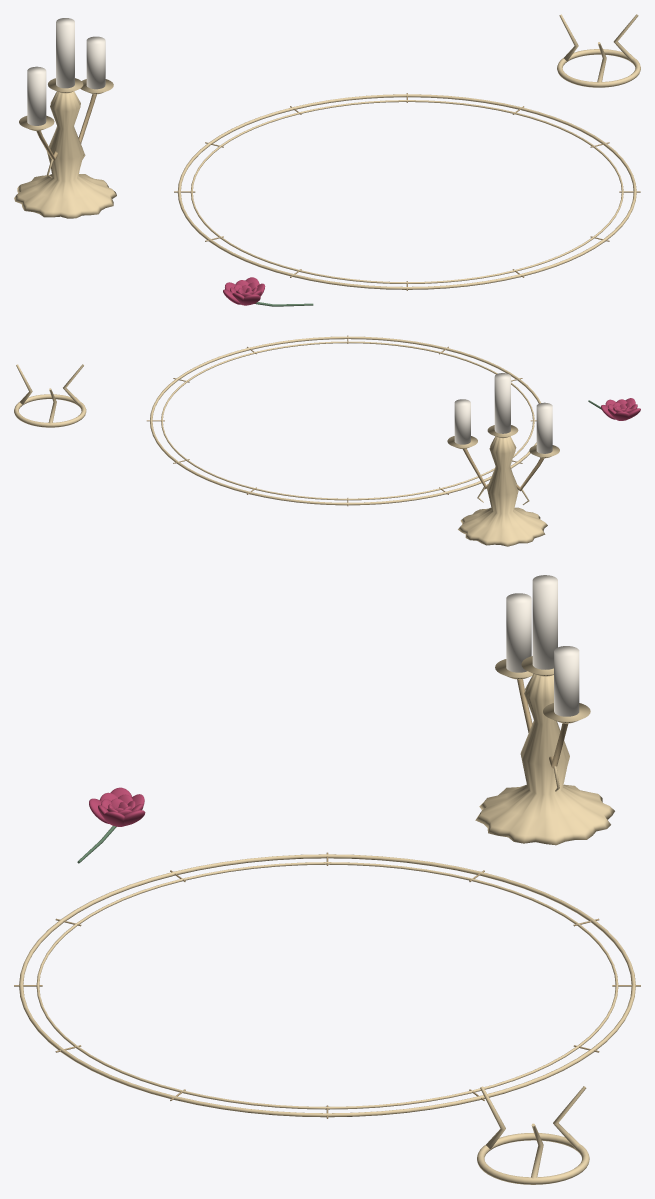
The model's file is salon_sculptures.glb.
The picture shows the model from 3 angles, top to bottom: view 1: azimuth 30°, elevation 25°; view 2: azimuth 150°, elevation 25°; view 3: azimuth 270°, elevation 25°; orthographic projection. The views are drawn at different scales.
Parts seen in each view (by area): view 1: RococoCandelabraBrass, TableAstrolabeInlay, RococoCandelabraWax, BaroqueCrystalStand, SculptedRosePetals; view 2: RococoCandelabraBrass, TableAstrolabeInlay, RococoCandelabraWax, BaroqueCrystalStand, SculptedRosePetals; view 3: TableAstrolabeInlay, RococoCandelabraBrass, RococoCandelabraWax, BaroqueCrystalStand, SculptedRosePetals.
Part boxes in pixels (x1=…): RococoCandelabraBrass: x1=14, y1=78, x2=116, y2=218; TableAstrolabeInlay: x1=174, y1=93, x2=640, y2=290; RococoCandelabraWax: x1=27, y1=18, x2=105, y2=125; BaroqueCrystalStand: x1=557, y1=14, x2=640, y2=87; SculptedRosePetals: x1=223, y1=277, x2=265, y2=305; RococoCandelabraBrass: x1=447, y1=425, x2=559, y2=546; TableAstrolabeInlay: x1=146, y1=335, x2=540, y2=506; RococoCandelabraWax: x1=454, y1=373, x2=552, y2=453; BaroqueCrystalStand: x1=14, y1=364, x2=86, y2=427; SculptedRosePetals: x1=601, y1=398, x2=640, y2=420; TableAstrolabeInlay: x1=14, y1=852, x2=640, y2=1118; RococoCandelabraBrass: x1=475, y1=656, x2=614, y2=845; RococoCandelabraWax: x1=506, y1=575, x2=579, y2=716; BaroqueCrystalStand: x1=477, y1=1086, x2=589, y2=1184; SculptedRosePetals: x1=89, y1=787, x2=145, y2=826.
Bounding box in the file's own units: 8.07 × 2.18 × 5.24.
